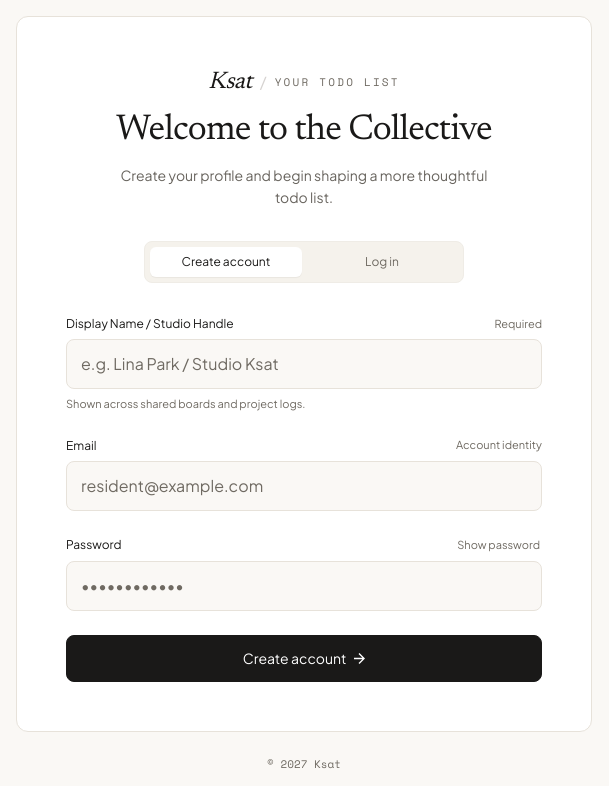
Scenario: AuthScreen › shows a safe retry message when the auth service is unreachable
Click the radio button labelled "Log in" at (382, 262), box [306,247,458,277]
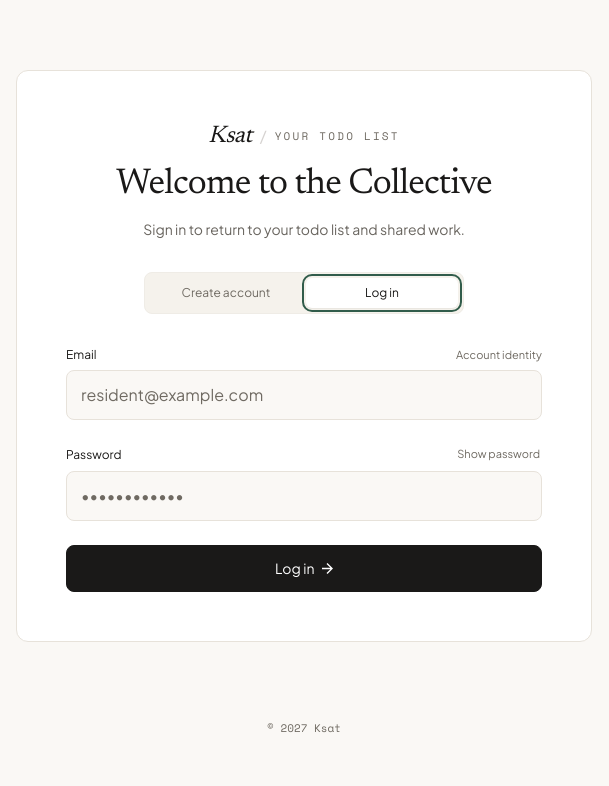
Type "ada@example.test" into the field labelled "Email" at (304, 395), box [66,370,542,420]
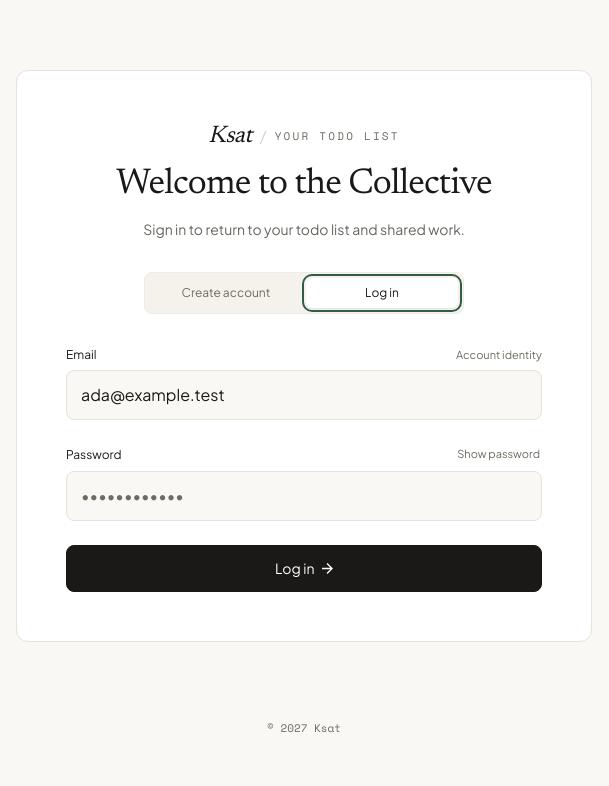
Type "a secure password" into the password field labelled "Password" at (304, 496), box [66,471,542,521]
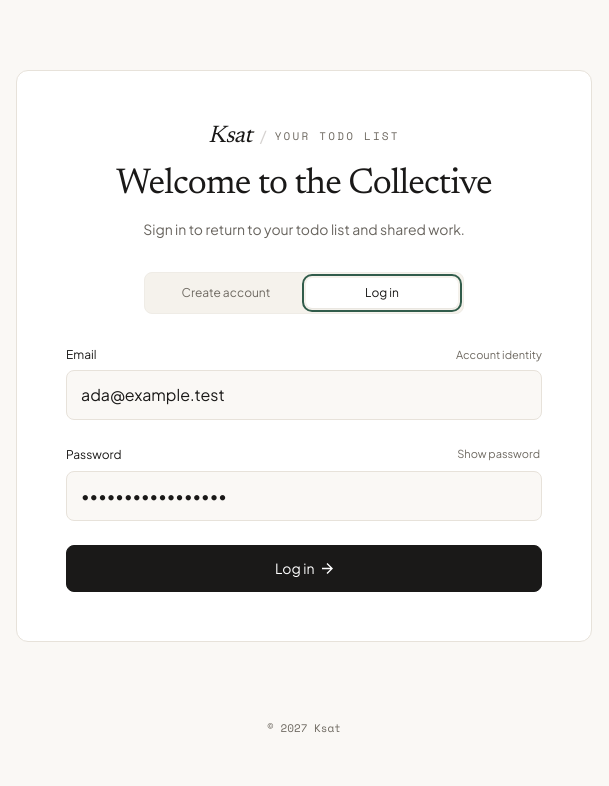
Click the button "Log in" at (304, 568), box [66,545,542,592]
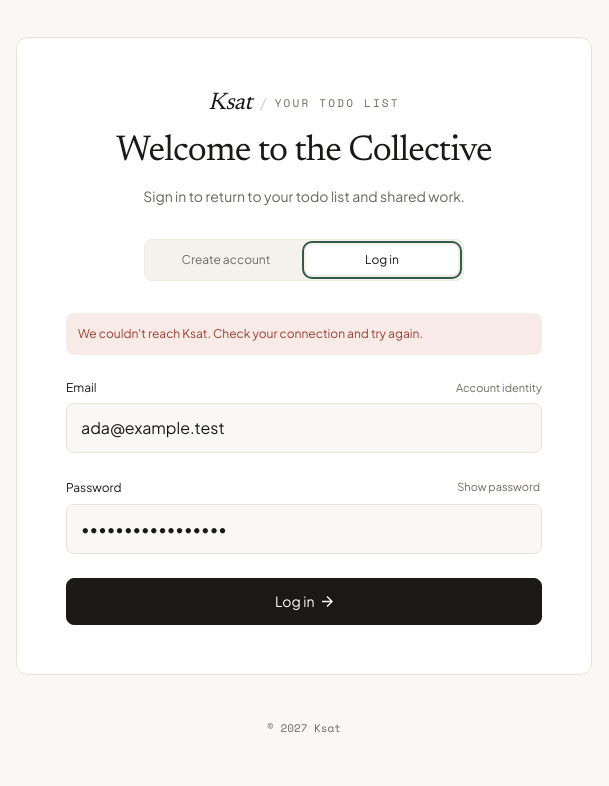
Expected: the message does not show "internal network details", [66,313,542,355]
Expected: the message shows "We couldn't reach Ksat", [78,326,423,341]
